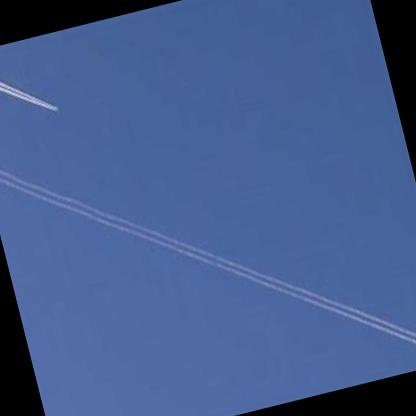plane: (53, 101, 66, 119)
